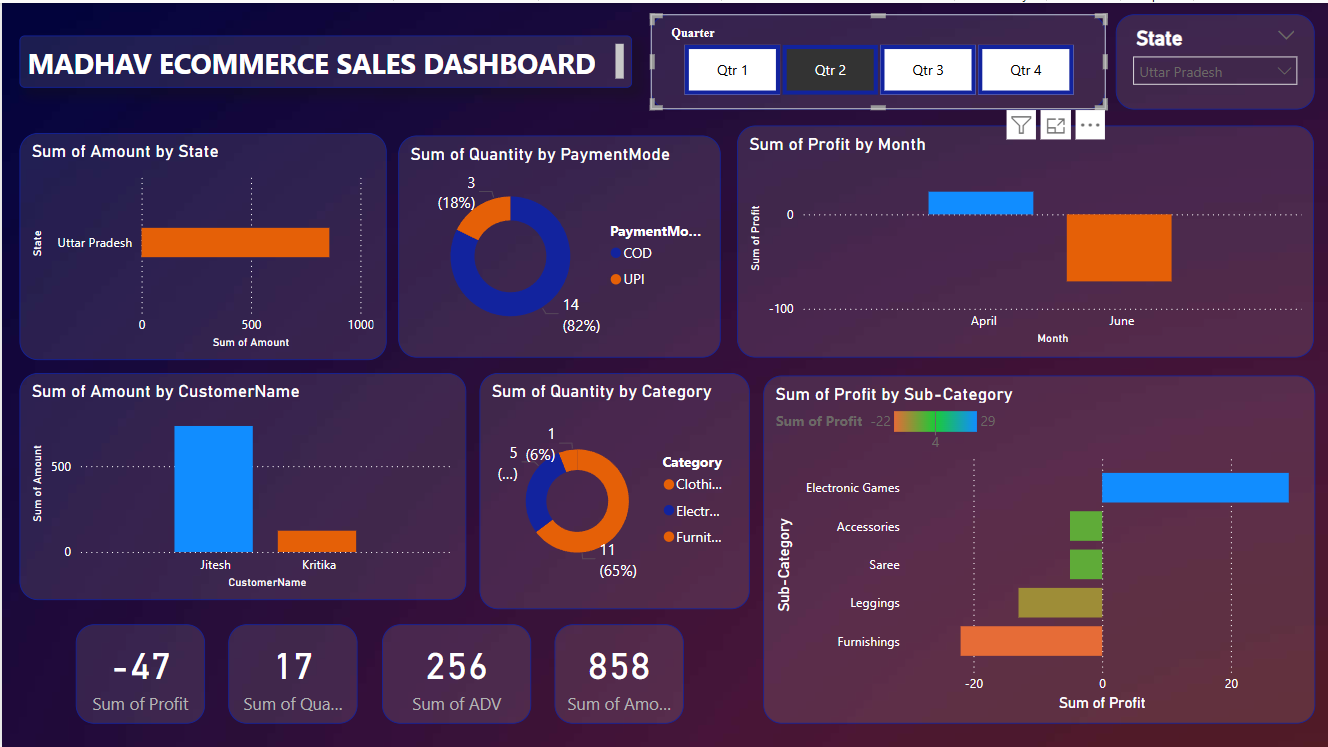

The dashboard page shown, as its layout file describes it:
{"tool":"powerbi","page":{"name":"Page 1","canvas":[1280,720],"ordinal":0},"visuals":[{"type":"textbox","box":[16.5,31.6,591.4,50.8],"z":0},{"type":"columnChart","fields":{"Y":["Sum(Details.Profit)"],"Category":["Orders.Order Date.Variation.Date Hierarchy.Month"]},"box":[709.4,118.4,557.1,223.7],"z":1000},{"type":"barChart","fields":{"Category":["Details.Sub-Category"],"Y":["Sum(Details.Profit)"]},"box":[734.1,359.5,532.4,336.2],"z":2000},{"type":"donutChart","fields":{"Category":["Details.Category"],"Y":["Sum(Details.Quantity)"]},"box":[461.1,356.8,260.7,227.8],"z":3000},{"type":"donutChart","fields":{"Category":["Details.PaymentMode"],"Y":["Sum(Details.Quantity)"]},"box":[382.8,128,311.5,214.1],"z":4000},{"type":"card","fields":{"Values":["Sum(Details.Amount)"]},"box":[532.8,599.7,124.9,96.1],"z":5000},{"type":"card","fields":{"Values":["Sum(Details.ADV)"]},"box":[366.8,599.7,144.1,96.1],"z":6000},{"type":"card","fields":{"Values":["Sum(Details.Quantity)"]},"box":[218.6,599.7,124.9,96.1],"z":7000},{"type":"card","fields":{"Values":["Sum(Details.Profit)"]},"box":[71.7,599.7,124.9,96.1],"z":8000},{"type":"barChart","fields":{"Category":["Orders.State"],"Y":["Sum(Details.Amount)"]},"box":[16.5,125.2,354,219.6],"z":9000},{"type":"columnChart","fields":{"Category":["Orders.CustomerName"],"Y":["Sum(Details.Amount)"]},"box":[16.5,356.8,430.9,219.6],"z":10000},{"type":"slicer","fields":{"Values":["Orders.Order Date.Variation.Date Hierarchy.Quarter"]},"box":[625.7,11,439.1,91.9],"z":11000},{"type":"slicer","fields":{"Values":["Orders.State"]},"box":[1074.4,11,192.1,91.9],"z":11001}]}

Visuals, with their boxes in screenshot pixels (x1, y1, x2, y2), scaled from the page's 1280x720 canvas onto the 1328x747 screenshot:
textbox: rect(17, 33, 631, 85)
columnChart - Sum(Details.Profit) x Orders.Order Date.Variation.Date Hierarchy.Month: rect(736, 123, 1314, 355)
barChart - Details.Sub-Category x Sum(Details.Profit): rect(762, 373, 1314, 722)
donutChart - Details.Category x Sum(Details.Quantity): rect(478, 370, 749, 607)
donutChart - Details.PaymentMode x Sum(Details.Quantity): rect(397, 133, 720, 355)
card - Sum(Details.Amount): rect(553, 622, 682, 722)
card - Sum(Details.ADV): rect(381, 622, 530, 722)
card - Sum(Details.Quantity): rect(227, 622, 356, 722)
card - Sum(Details.Profit): rect(74, 622, 204, 722)
barChart - Orders.State x Sum(Details.Amount): rect(17, 130, 384, 358)
columnChart - Orders.CustomerName x Sum(Details.Amount): rect(17, 370, 464, 598)
slicer - Orders.Order Date.Variation.Date Hierarchy.Quarter: rect(649, 11, 1105, 107)
slicer - Orders.State: rect(1115, 11, 1314, 107)
